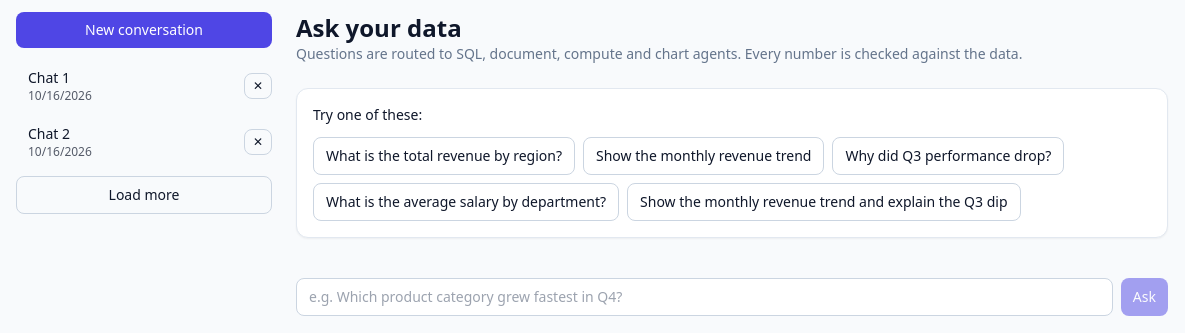
Test: Ask page › loads more chats with the next offset and appends them
Expected: the text "Chat 2" is shown, [28,124,70,143]
Click the button "Load more".
click(144, 195)  # box [16,176,272,214]
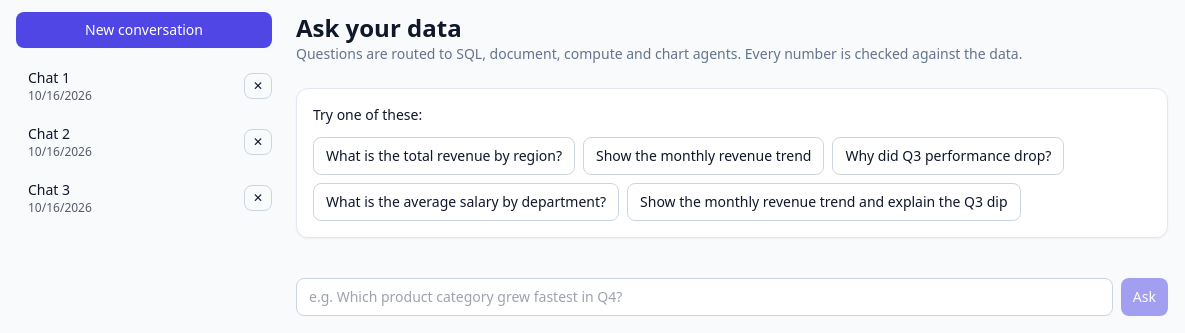
Expected: the text "Chat 1" is shown, [28,68,70,87]
Expected: the text "Chat 3" is shown, [28,180,70,199]
Expected: the button "Load more" is gone
